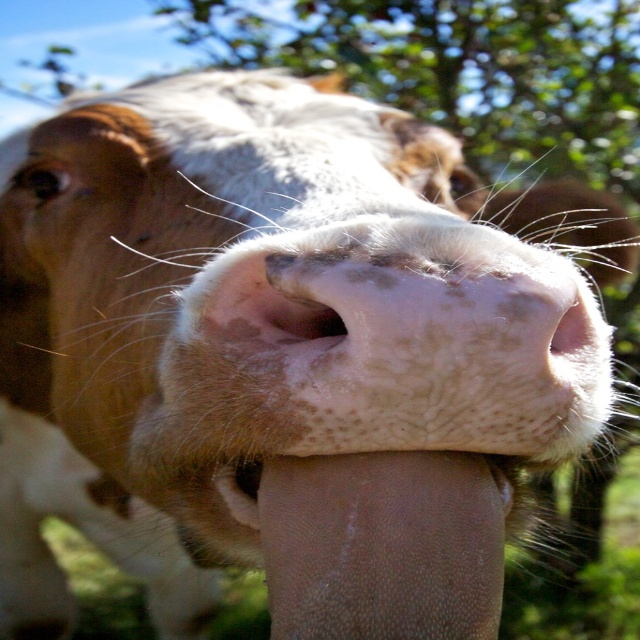Cattle: (0, 62, 639, 640)
